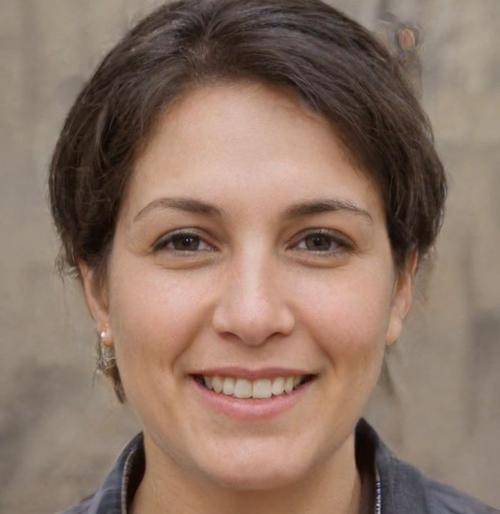no_mask: (83, 62, 413, 487)
